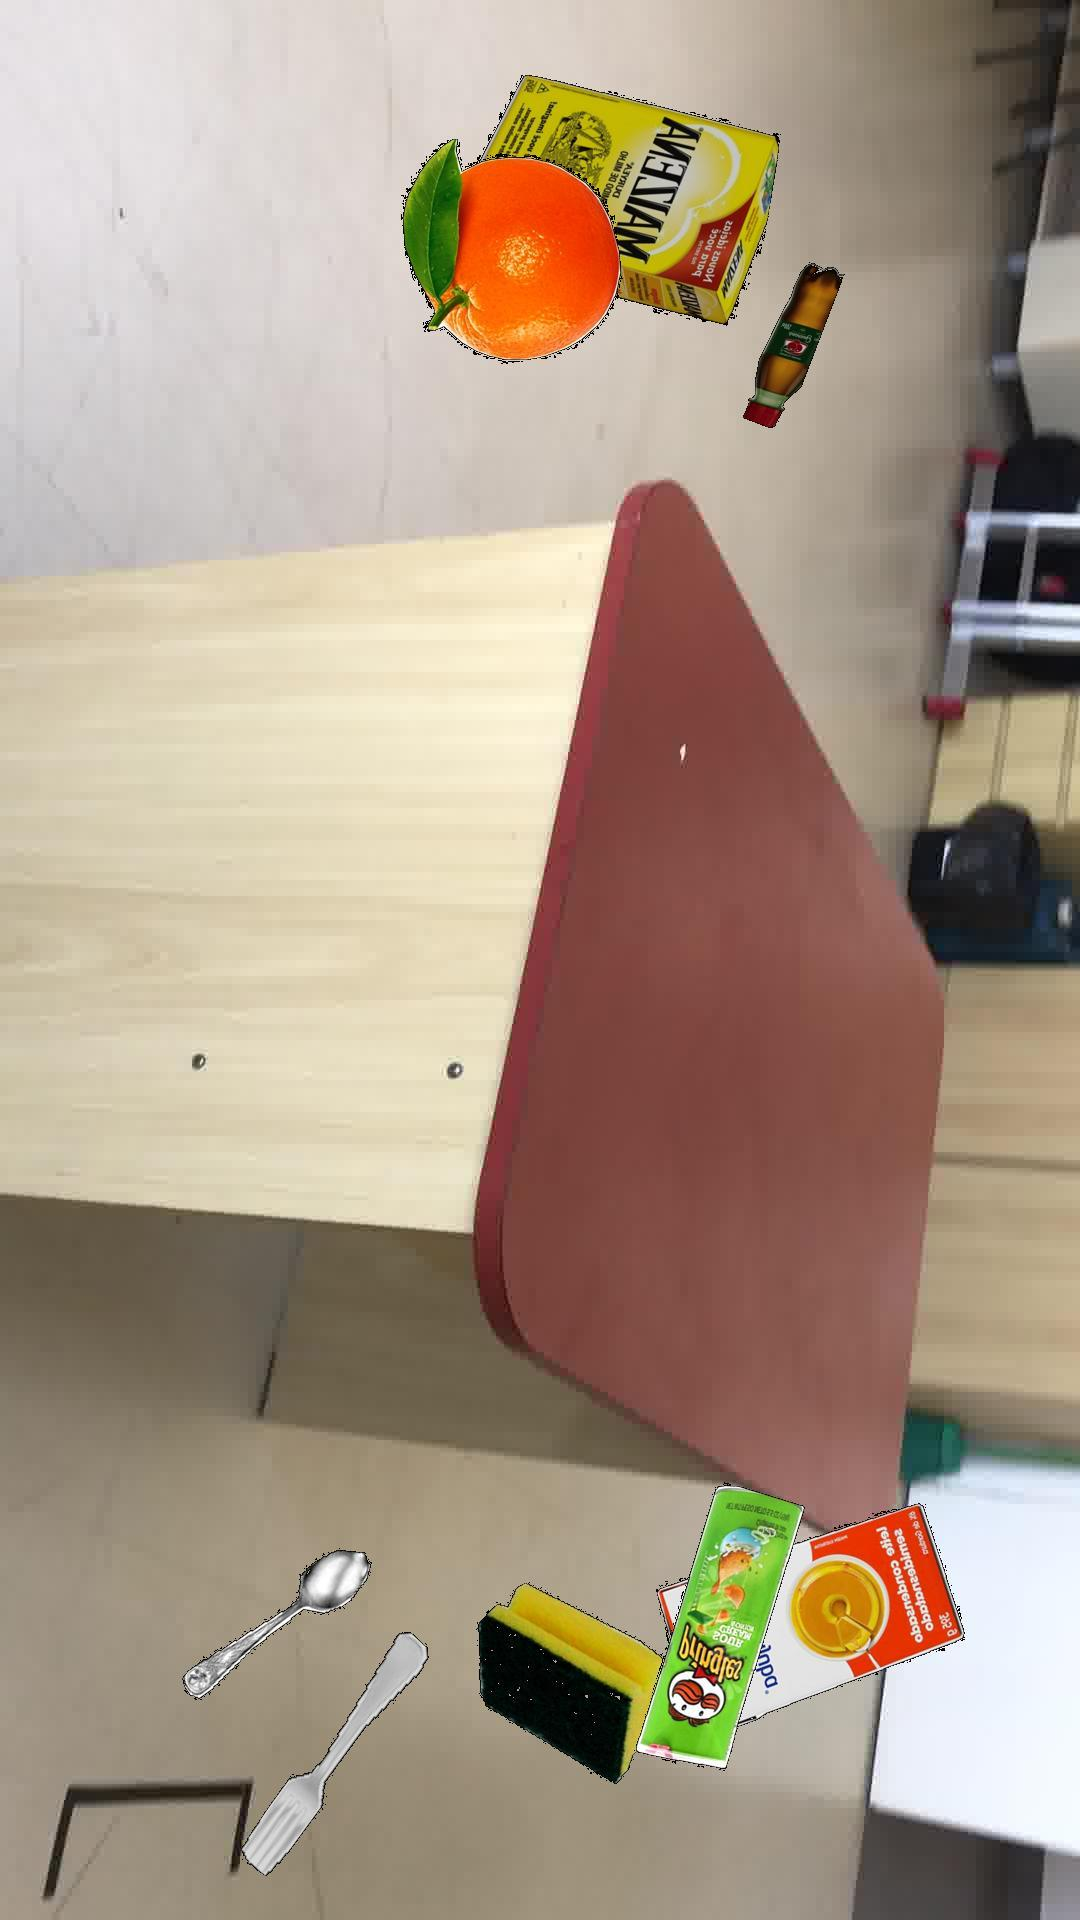fork: (240, 1630, 427, 1874)
guarana: (741, 261, 844, 426)
orange: (400, 137, 621, 359)
pringles: (634, 1481, 803, 1768)
sponge: (476, 1581, 662, 1783)
spoon: (181, 1548, 369, 1698)
